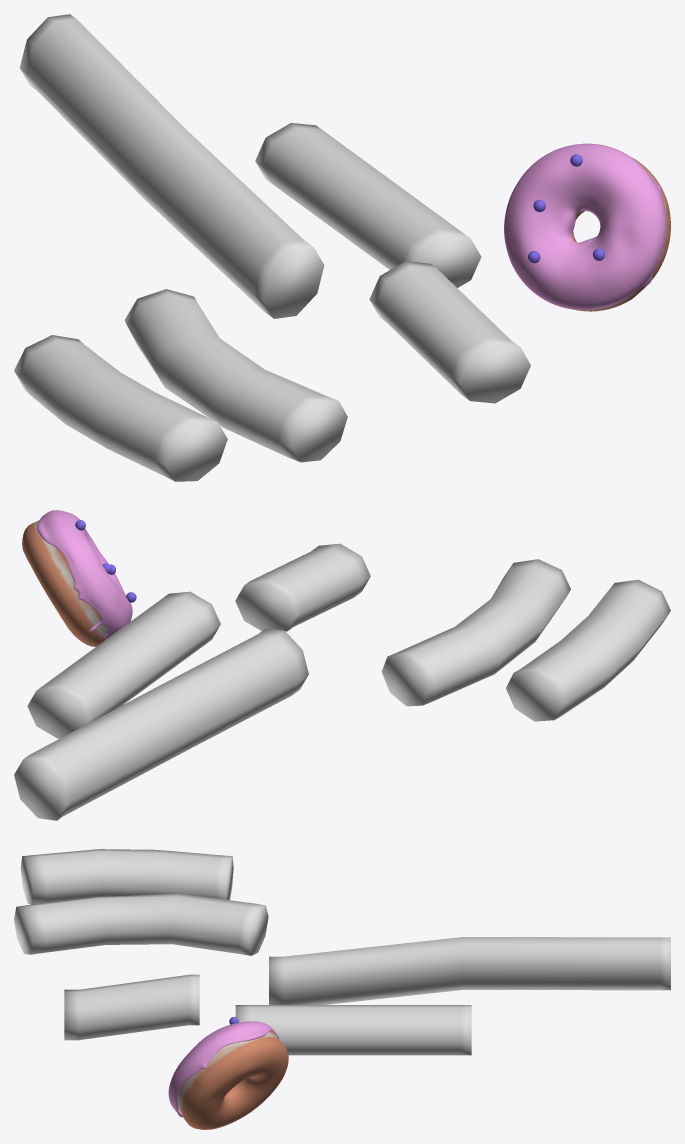
The model's file is don2-6-forVSC.glb.
The picture shows the model from 3 angles, top to bottom: view 1: azimuth 30°, elevation 25°; view 2: azimuth 150°, elevation 25°; view 3: azimuth 270°, elevation 25°; orthographic projection. The views are drawn at different scales.
Visible parts, largest first — view 1: Sprinkle.001, Icing, Sprinkle.003, Sprinkle, Sprinkle.004, Sprinkle.002, Donut; view 2: Sprinkle.001, Sprinkle.003, Sprinkle, Sprinkle.004, Sprinkle.002, Icing, Donut; view 3: Sprinkle.001, Sprinkle.003, Sprinkle, Sprinkle.004, Sprinkle.002, Donut, Icing.
Part boxes in pixels (x1,y1,x2,y2): Sprinkle.001: (20,14,324,318); Icing: (504,143,666,309); Sprinkle.003: (124,289,347,462); Sprinkle: (255,123,481,287); Sprinkle.004: (14,335,227,481); Sprinkle.002: (369,261,530,403); Donut: (572,157,670,311); Sprinkle.001: (14,628,308,820); Sprinkle.003: (381,559,570,706); Sprinkle: (27,591,220,738); Sprinkle.004: (506,579,670,721); Sprinkle.002: (235,543,370,631); Icing: (37,510,132,638); Donut: (22,520,107,646); Sprinkle.001: (269,937,670,1004); Sprinkle.003: (14,893,268,955); Sprinkle: (235,1005,471,1055); Sprinkle.004: (20,849,233,904); Sprinkle.002: (64,974,199,1040); Donut: (177,1030,288,1129); Icing: (168,1021,279,1117).
Bounding box in the file's own units: 0.4293 × 0.0927 × 0.4966.
4 materials, 1 textured.
